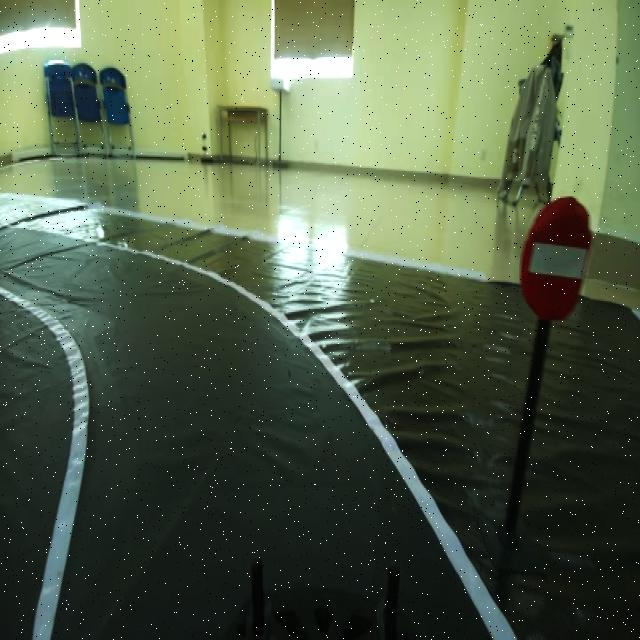no_entry: (519, 190, 597, 330)
